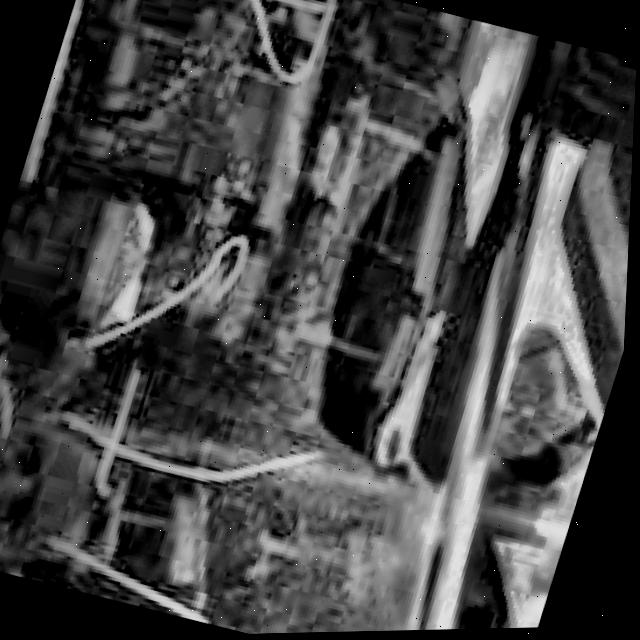door_scratch: (19, 165, 408, 639), (57, 0, 357, 116)
